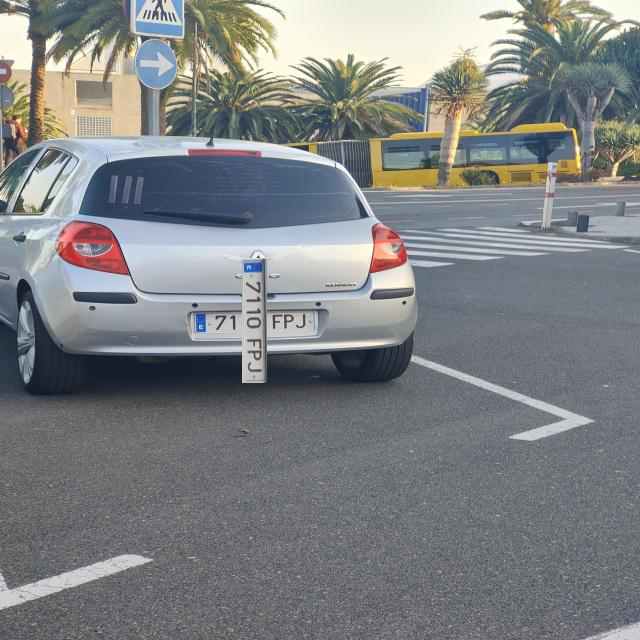License-Plate: (217, 283, 292, 359)
